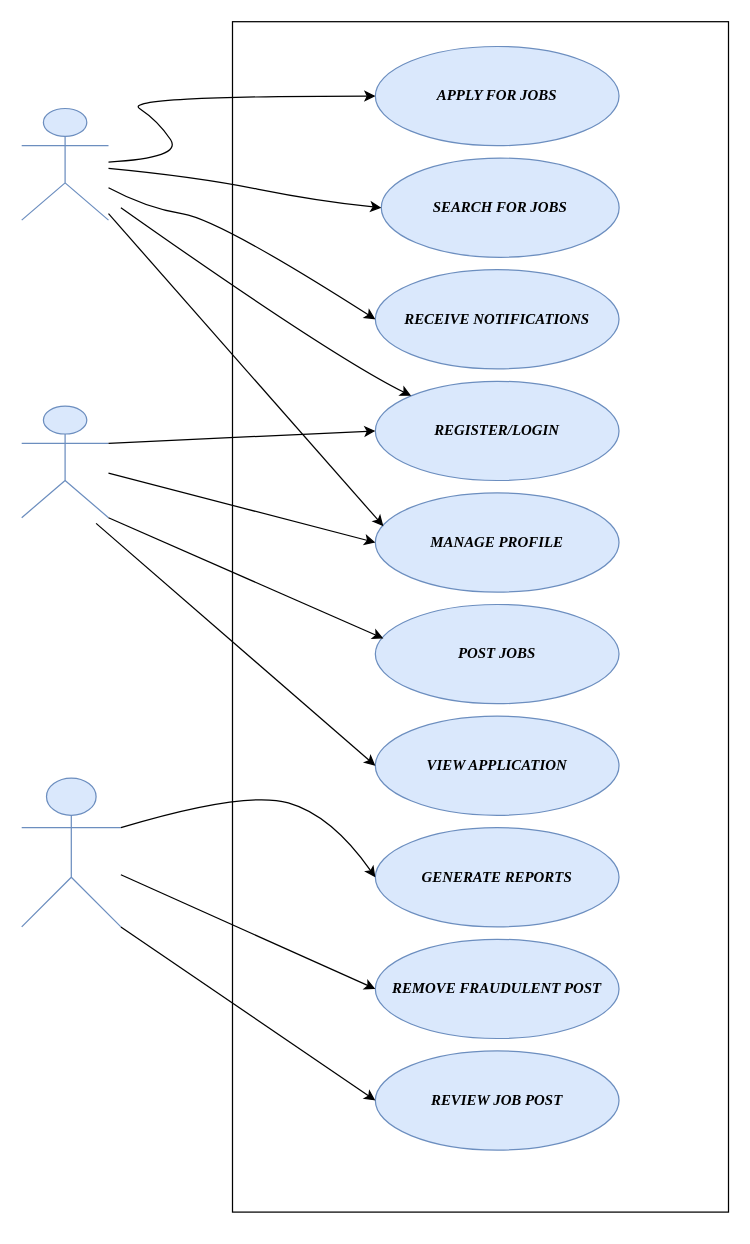
The diagram is 750 pixels wide and 1244 high, and some of its shapes have lost their labels. The shapes that lost their labels are listed below. From the top down, each one's box as (x1, y1, x2, y2) in pixels, then its label:
(20, 107, 108, 220): Job Seeker
(20, 405, 108, 518): Employer
(20, 777, 121, 927): Admin
